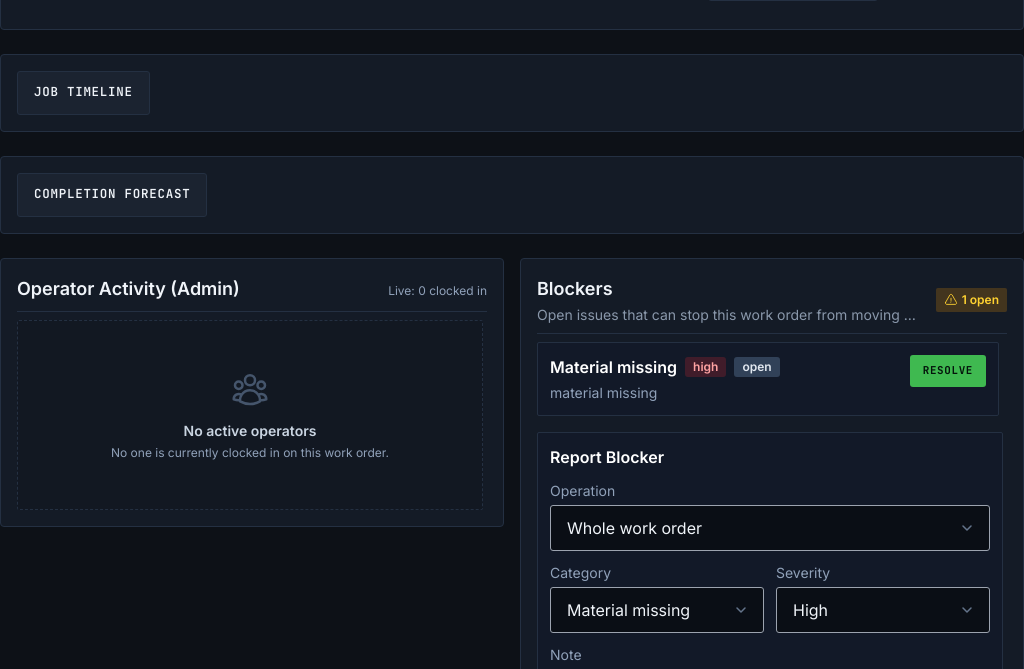
WorkOrderDetail resolve-blocker toast › warns instead of celebrating when the operation is STILL on hold
(page scrolled)
Click the button "Resolve": (948,370) [910,354,986,386]
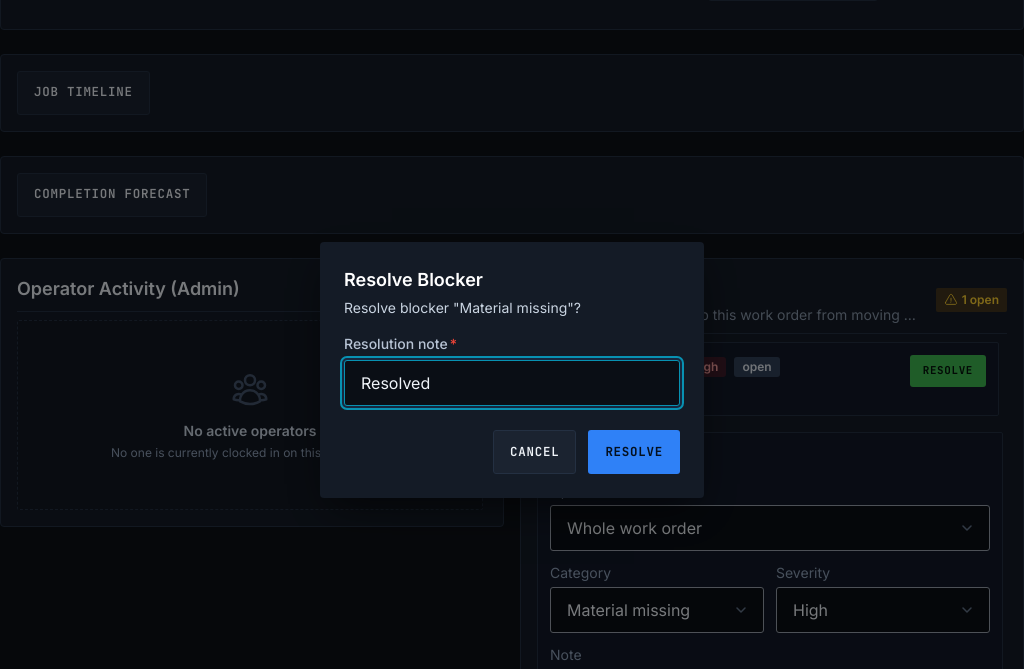
Check: the field labelled "Resolution note*" holds "Resolved", box [344,360,680,406]
Click the button "Resolve": (634,452) [588,430,680,474]
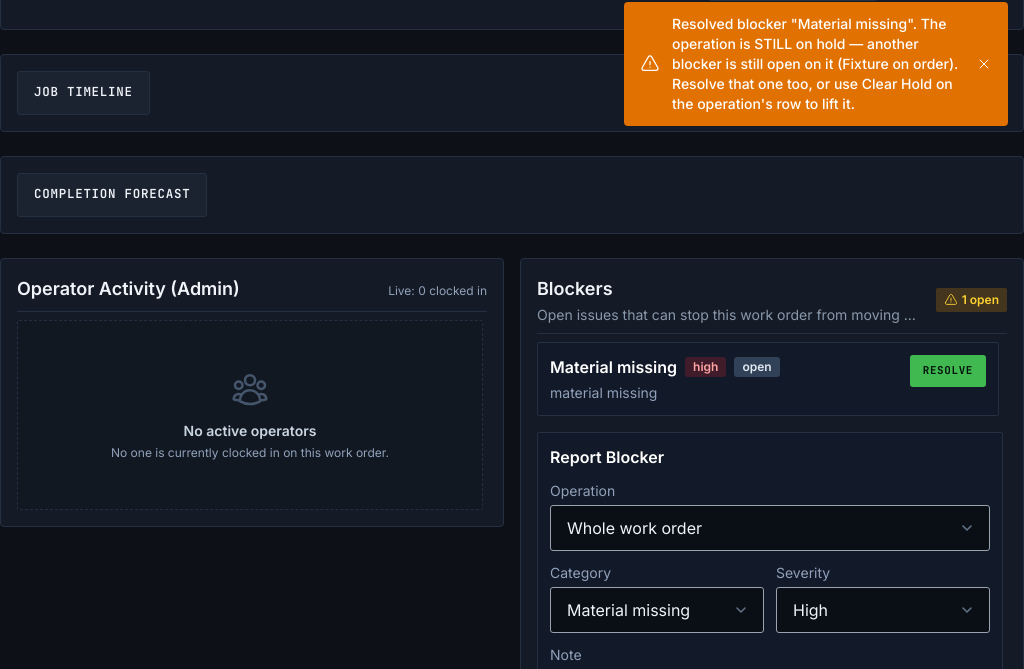
Check: the text "STILL on hold" shows "Resolved blocker \"Material missing\"", box [672,15,958,112]
Check: the text "STILL on hold" shows "Fixture on order", box [672,15,958,112]
Check: the text "STILL on hold" shows "Resolve that one too", box [672,15,958,112]
